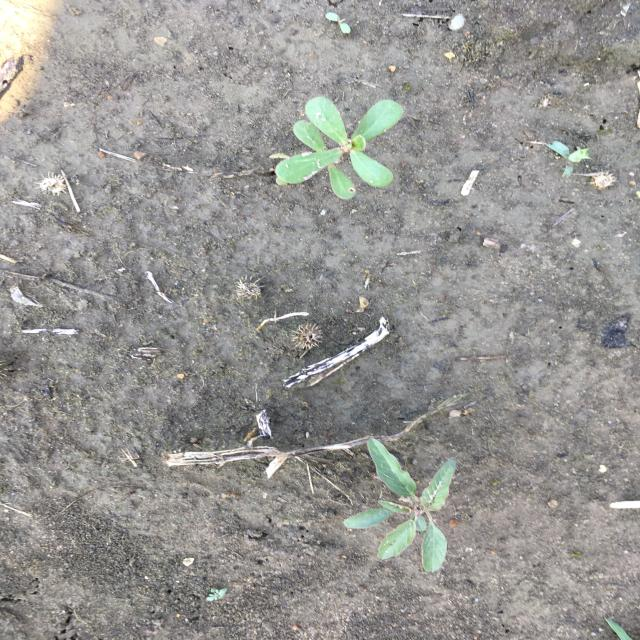Purslane: (274, 96, 406, 202)
Waterhemp: (341, 437, 458, 574)
